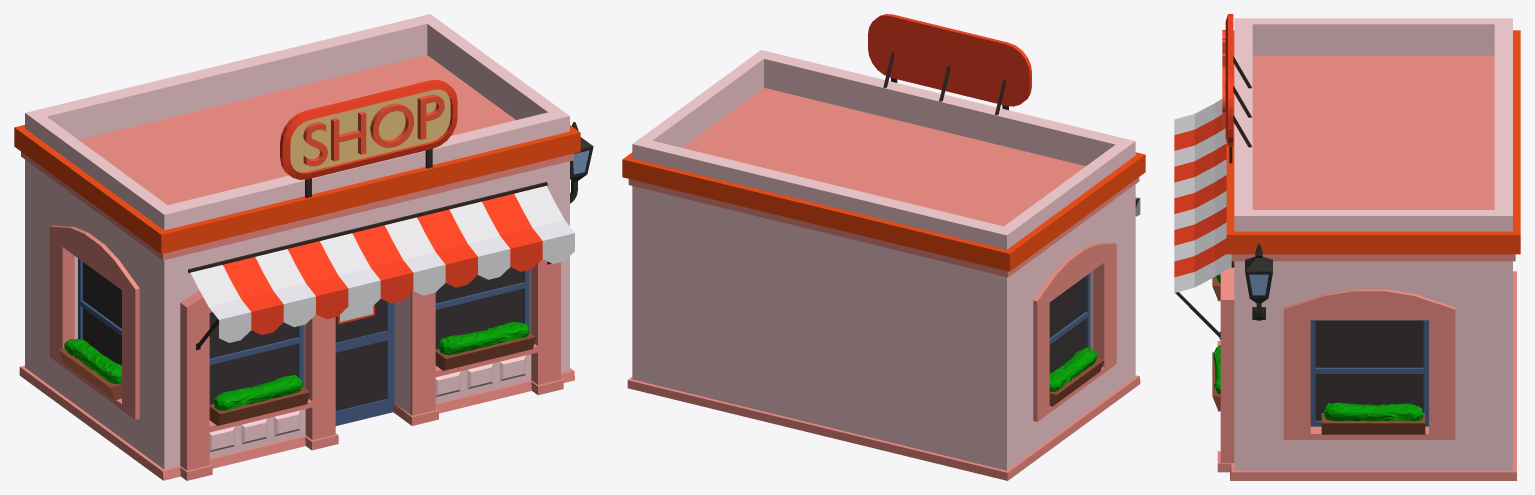
Rendered from ShopBuilding.glb.
3 renders of one model, left to right at view 1: azimuth 30°, elevation 25°; view 2: azimuth 150°, elevation 25°; view 3: azimuth 270°, elevation 25°, orthographic. The views are drawn at different scales.
Parts seen in each view (by area): view 1: ShopBuilding; view 2: ShopBuilding; view 3: ShopBuilding.
Part boxes in pixels (box(x1,y1,x2,y2)): ShopBuilding: box(14, 14, 593, 480); ShopBuilding: box(622, 14, 1145, 480); ShopBuilding: box(1174, 14, 1520, 480).
Size of the model in its own units: 0.0369 by 0.0264 by 0.0248.
1 material, 1 textured.
